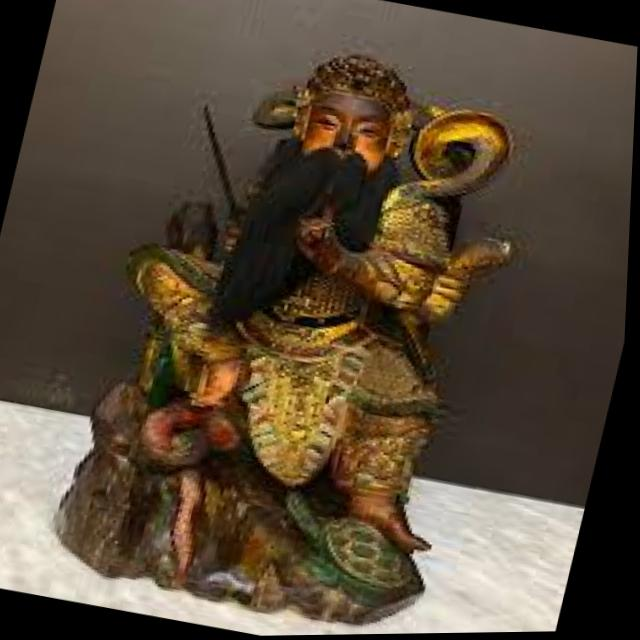Xuan wu: (108, 21, 547, 523)
